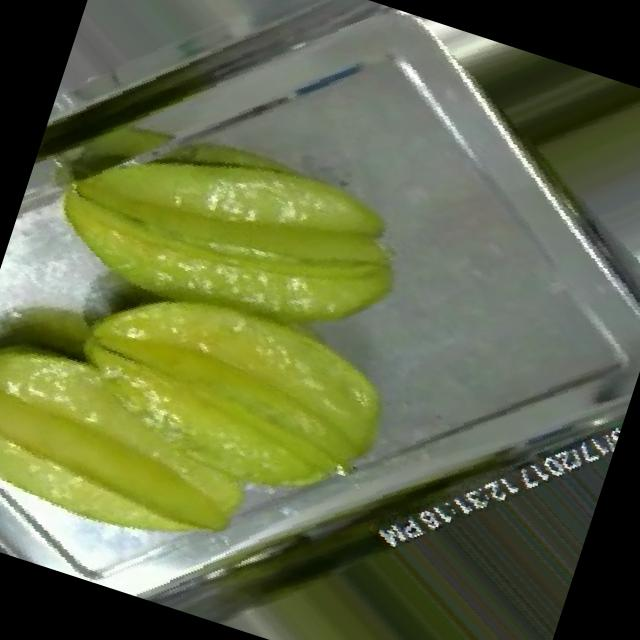fruit: (0, 0, 534, 640), (469, 51, 640, 293)
